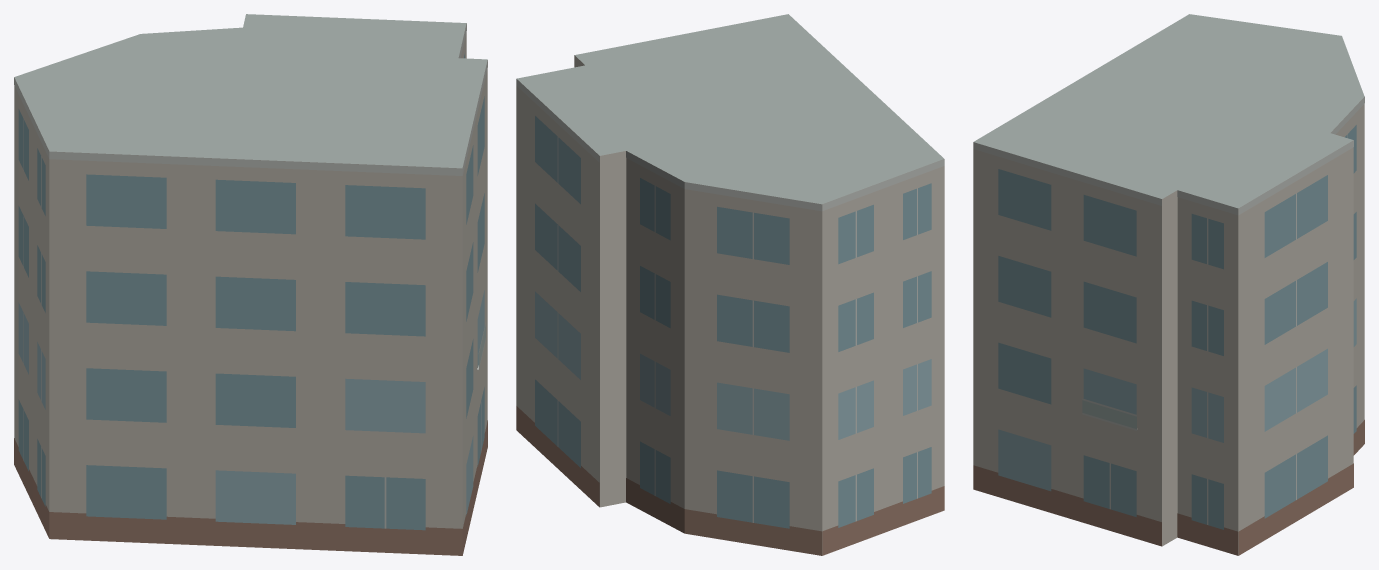
The model's file is residential-3dd687a4-99e4-4593-ada4-2a75c9b7ada8.glb.
3 renders of one model, left to right at view 1: azimuth 30°, elevation 25°; view 2: azimuth 150°, elevation 25°; view 3: azimuth 270°, elevation 25°, orthographic. The views are drawn at different scales.
Visible parts, largest first — view 1: residential-3dd687a4-99e4-4593-ada4-2a75c9b7ada8.tmp; view 2: residential-3dd687a4-99e4-4593-ada4-2a75c9b7ada8.tmp; view 3: residential-3dd687a4-99e4-4593-ada4-2a75c9b7ada8.tmp.
Boxes of the visible parts, x1,y1,x2,y2 form: residential-3dd687a4-99e4-4593-ada4-2a75c9b7ada8.tmp: (14,14,487,555); residential-3dd687a4-99e4-4593-ada4-2a75c9b7ada8.tmp: (516,14,944,555); residential-3dd687a4-99e4-4593-ada4-2a75c9b7ada8.tmp: (973,14,1364,555).
Bounding box in the file's own units: 14.65 × 12.2 × 12.47.
